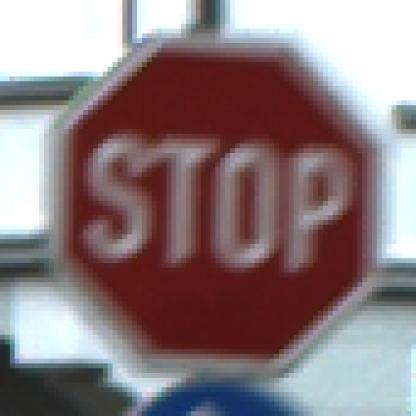Stop: (63, 36, 375, 367)
